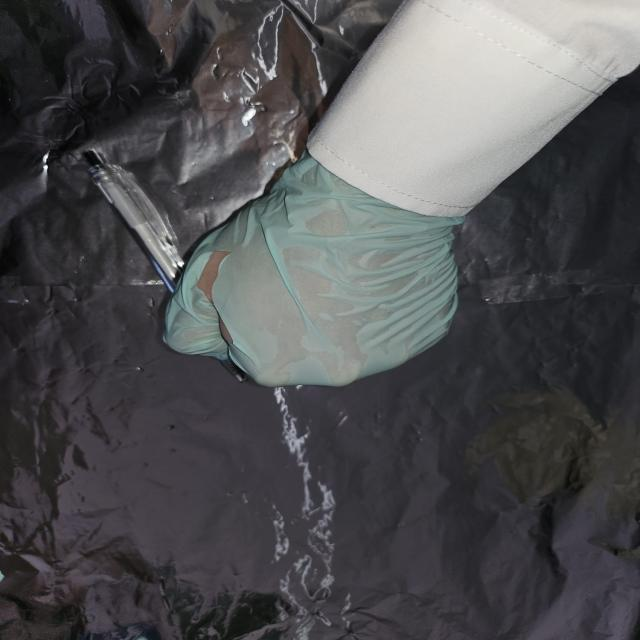gloves_damaged: (156, 148, 464, 388)
